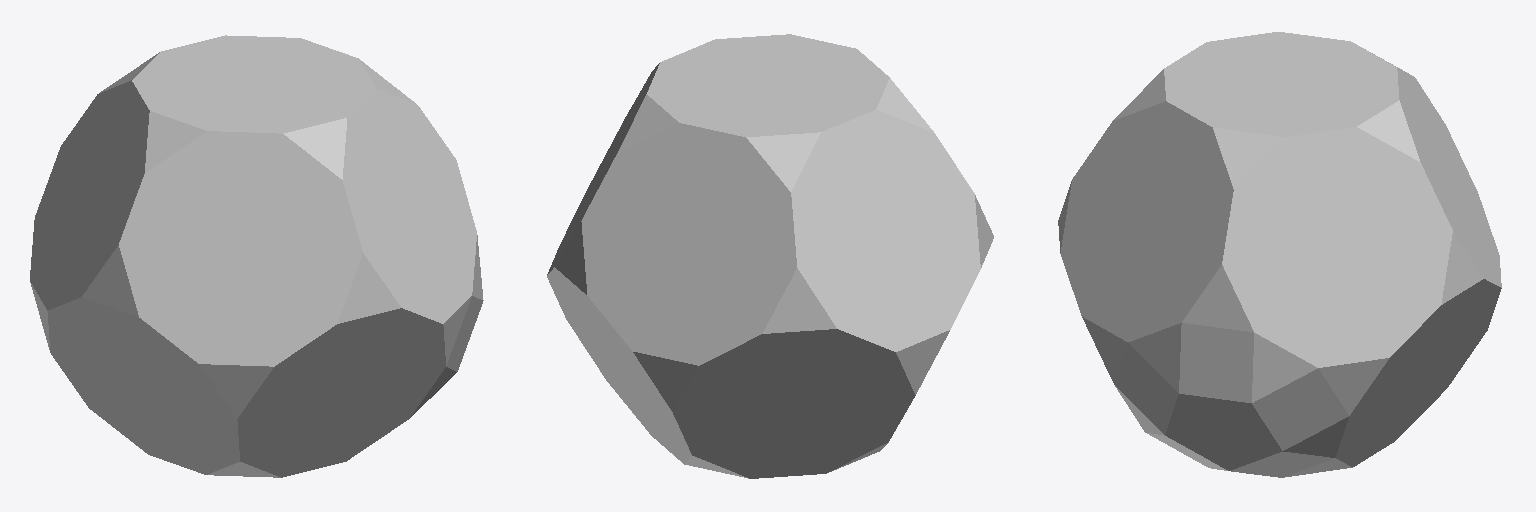
Rendered from AugmentedTruncatedDodecahedron.obj.
3 renders of one model, left to right at view 1: azimuth 30°, elevation 25°; view 2: azimuth 150°, elevation 25°; view 3: azimuth 270°, elevation 25°, orthographic.
Visible parts, largest first — view 1: AugmentedTruncatedDodecahedron; view 2: AugmentedTruncatedDodecahedron; view 3: AugmentedTruncatedDodecahedron.
Boxes of the visible parts, x1=… form: AugmentedTruncatedDodecahedron: x1=30, y1=35, x2=483, y2=477; AugmentedTruncatedDodecahedron: x1=547, y1=34, x2=993, y2=478; AugmentedTruncatedDodecahedron: x1=1058, y1=32, x2=1501, y2=477.
Bounding box in the file's own units: 4.47 × 3.77 × 4.39.